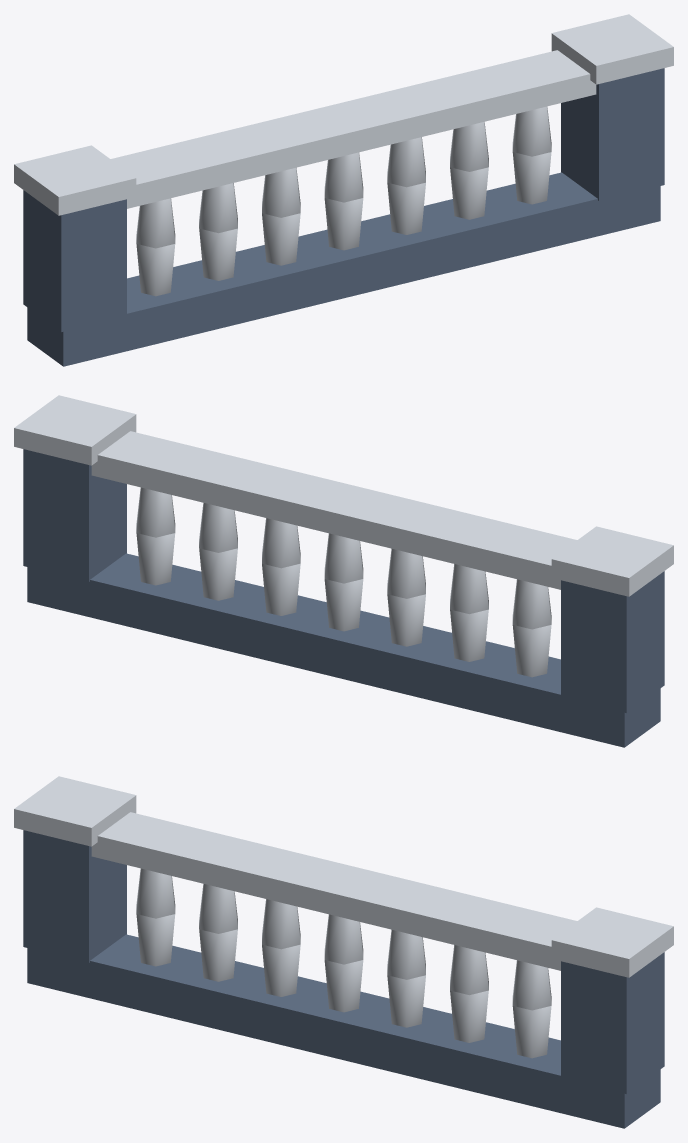
Rendered from prop_05_lakeside_stone_balustrade.glb.
3 renders of one model, top to bottom at view 1: azimuth 30°, elevation 25°; view 2: azimuth 150°, elevation 25°; view 3: azimuth 330°, elevation 25°, orthographic.
Parts seen in each view (by area): view 1: stone_curb, top_coping_rail, pier_body_-1.8, pier_body_1.8, pier_cap_-1.8, pier_cap_1.8, baluster_low_0, baluster_low_2, baluster_low_6, baluster_low_5, baluster_low_1, baluster_low_4 (+8 smaller); view 2: stone_curb, top_coping_rail, pier_body_-1.8, pier_body_1.8, pier_cap_-1.8, pier_cap_1.8, baluster_low_0, baluster_low_2, baluster_low_6, baluster_low_5, baluster_low_1, baluster_low_4 (+8 smaller); view 3: stone_curb, top_coping_rail, pier_body_1.8, pier_body_-1.8, pier_cap_1.8, pier_cap_-1.8, baluster_low_4, baluster_low_6, baluster_low_0, baluster_low_1, baluster_low_2, baluster_low_5 (+8 smaller).
Boxes of the visible parts, x1,y1,x2,y2 form: stone_curb: (27, 172, 660, 366); top_coping_rail: (110, 50, 596, 208); pier_body_-1.8: (23, 190, 126, 331); pier_body_1.8: (561, 68, 664, 200); pier_cap_-1.8: (14, 145, 136, 215); pier_cap_1.8: (551, 14, 673, 84); baluster_low_0: (136, 244, 175, 296); baluster_low_2: (262, 213, 300, 265); baluster_low_6: (512, 152, 551, 204); baluster_low_5: (450, 167, 488, 219); baluster_low_1: (199, 228, 237, 280); baluster_low_4: (387, 182, 425, 234); stone_curb: (27, 553, 660, 747); top_coping_rail: (91, 431, 577, 589); pier_body_-1.8: (561, 571, 664, 712); pier_body_1.8: (23, 449, 126, 581); pier_cap_-1.8: (551, 526, 673, 596); pier_cap_1.8: (14, 395, 136, 465); baluster_low_0: (512, 625, 551, 677); baluster_low_2: (387, 594, 425, 646); baluster_low_6: (136, 533, 175, 585); baluster_low_5: (199, 548, 237, 600); baluster_low_1: (450, 609, 488, 661); baluster_low_4: (262, 563, 300, 615); stone_curb: (27, 934, 660, 1128); top_coping_rail: (91, 812, 577, 970); pier_body_1.8: (561, 952, 664, 1093); pier_body_-1.8: (23, 830, 126, 962); pier_cap_1.8: (551, 907, 673, 977); pier_cap_-1.8: (14, 776, 136, 846); baluster_low_4: (387, 975, 425, 1027); baluster_low_6: (512, 1006, 551, 1058); baluster_low_0: (136, 914, 175, 966); baluster_low_1: (199, 929, 237, 981); baluster_low_2: (262, 944, 300, 996); baluster_low_5: (450, 990, 488, 1042).
Bounding box in the file's own units: 4.12 × 1.12 × 0.52.
